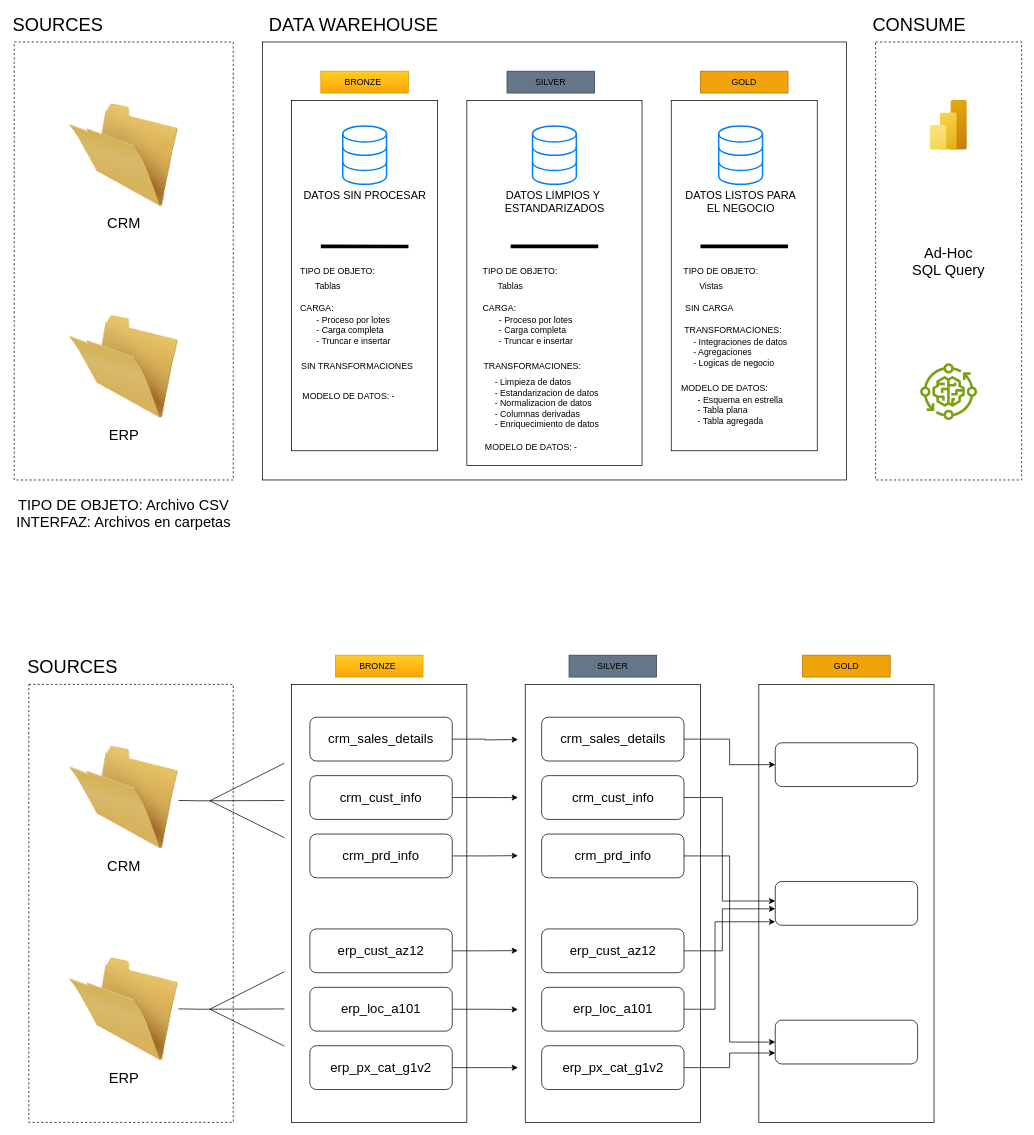
Some shapes in this 1034 by 1135 pixel diagram are drawn without their labels. The shapes that lost their labels are listed below. From the top down, each one's centre as x and y in pixels, then its label:
At (x=948, y=125): "Power BI".
At (x=948, y=391): "Machine Learning".
At (x=846, y=764): "fact_sales".
At (x=846, y=903): "dim_customers".
At (x=846, y=1041): "dim_products".
